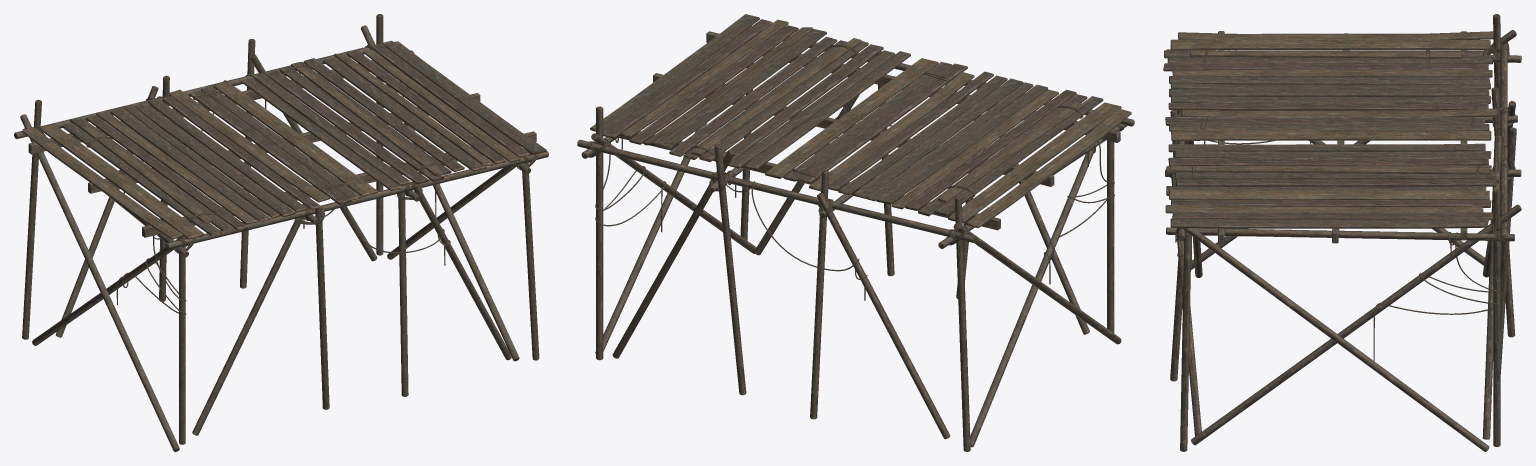
File: SM_Construction_v2_8x11_01.fbx
The picture shows the model from 3 angles, left to right: view 1: azimuth 30°, elevation 25°; view 2: azimuth 150°, elevation 25°; view 3: azimuth 270°, elevation 25°; orthographic projection. The views are drawn at different scales.
Parts seen in each view (by area): view 1: SM_Construction_v2_8x11_01_LOD0; view 2: SM_Construction_v2_8x11_01_LOD0; view 3: SM_Construction_v2_8x11_01_LOD0.
Part boxes in pixels (box(x1,y1,x2,y2)): SM_Construction_v2_8x11_01_LOD0: box(14, 14, 548, 451); SM_Construction_v2_8x11_01_LOD0: box(577, 14, 1134, 451); SM_Construction_v2_8x11_01_LOD0: box(1163, 14, 1521, 451).
Bounding box in the file's own units: 1120 × 830 × 671.
1 material, 1 textured.
